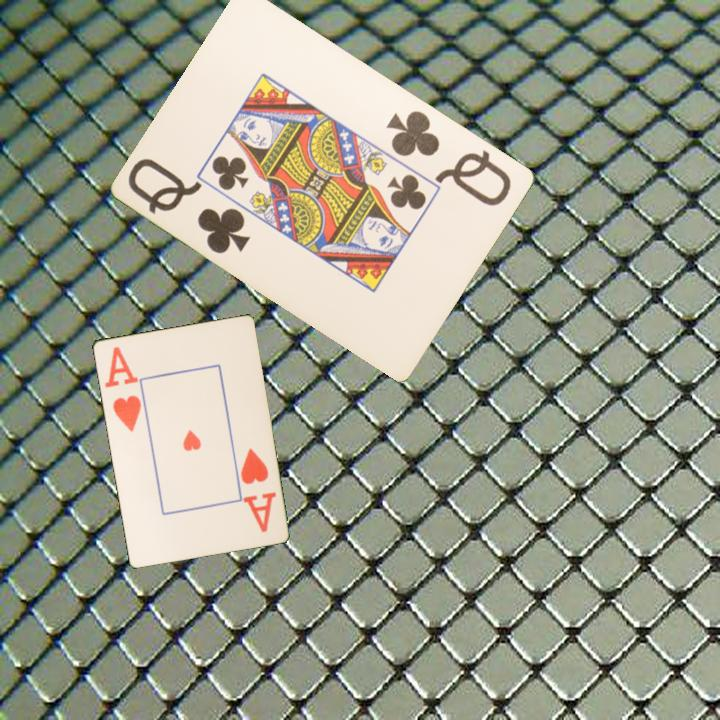Ah: (101, 343, 144, 435), (237, 444, 279, 535)
Qc: (383, 106, 515, 209), (124, 154, 254, 257)
